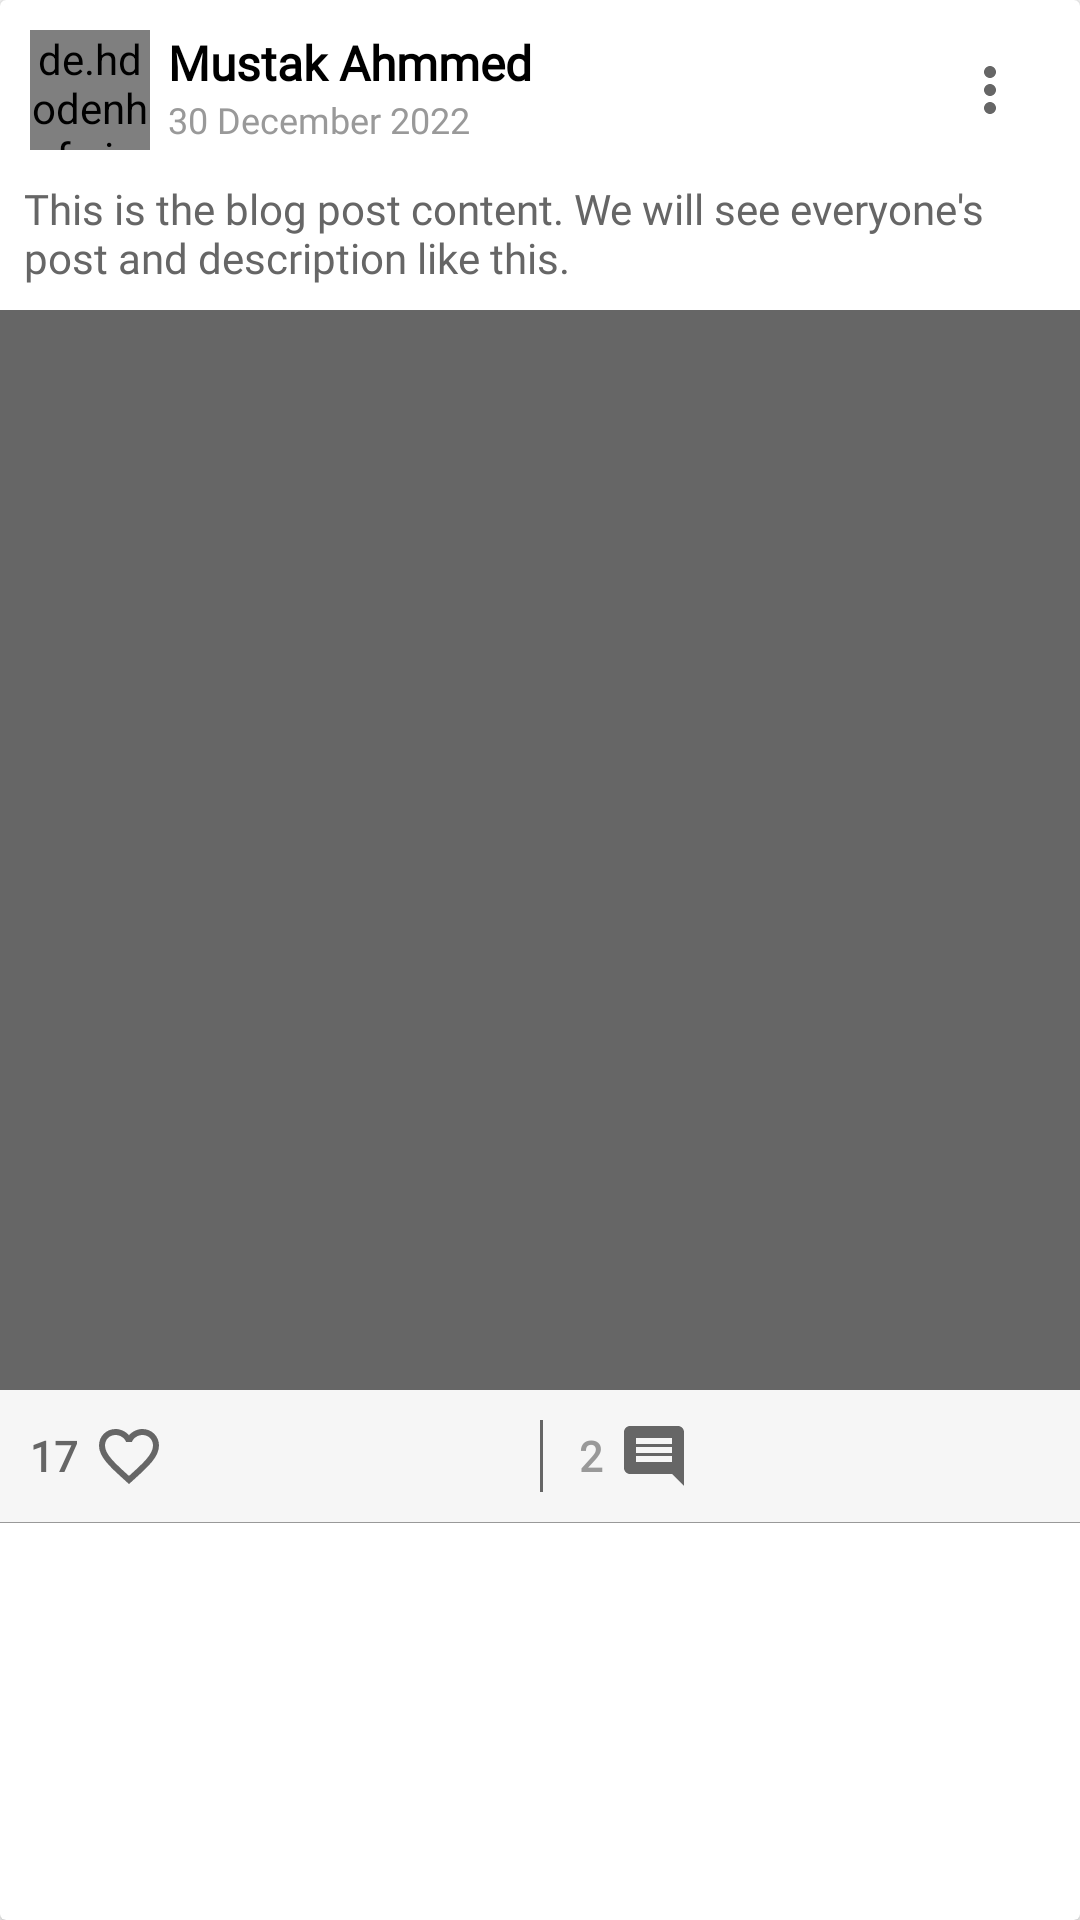

Icons on this 1080×1920 Android screen, each with its box as [x1, y1, x2, y2]:
comment: [624, 1426, 684, 1486]
love out: [99, 1429, 159, 1484]
option: [984, 66, 996, 114]
